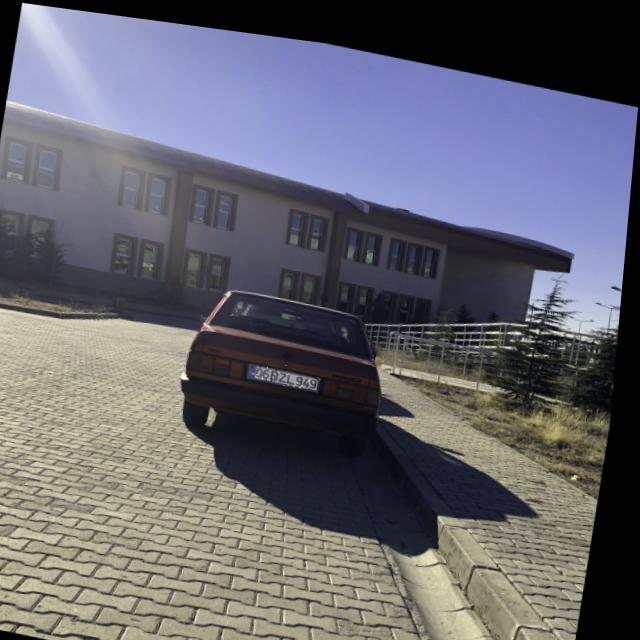license_plate: (252, 355, 327, 383)
